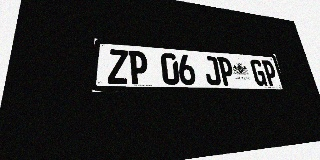0: (160, 53, 180, 85)
6: (177, 54, 196, 85)
G: (250, 59, 268, 86)
J: (203, 56, 222, 85)
P: (128, 50, 148, 85), (217, 57, 236, 86), (261, 60, 279, 86)
Z: (108, 49, 128, 84)
